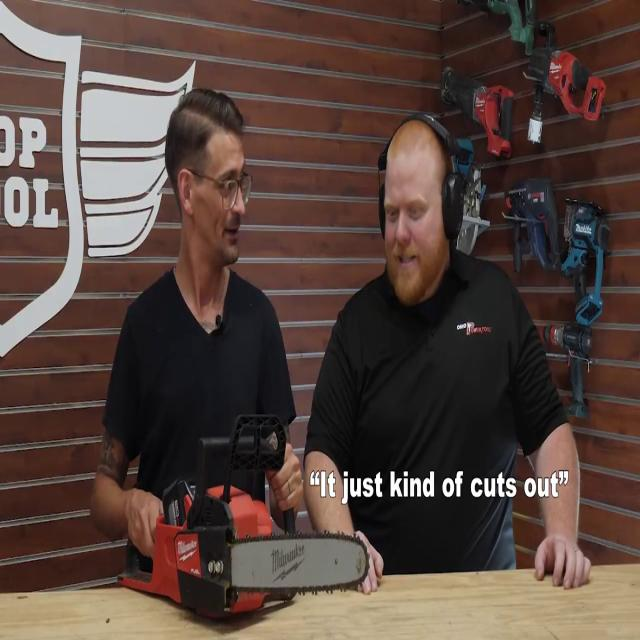earmuff: (439, 161, 467, 241)
glasses: (186, 158, 256, 221)
